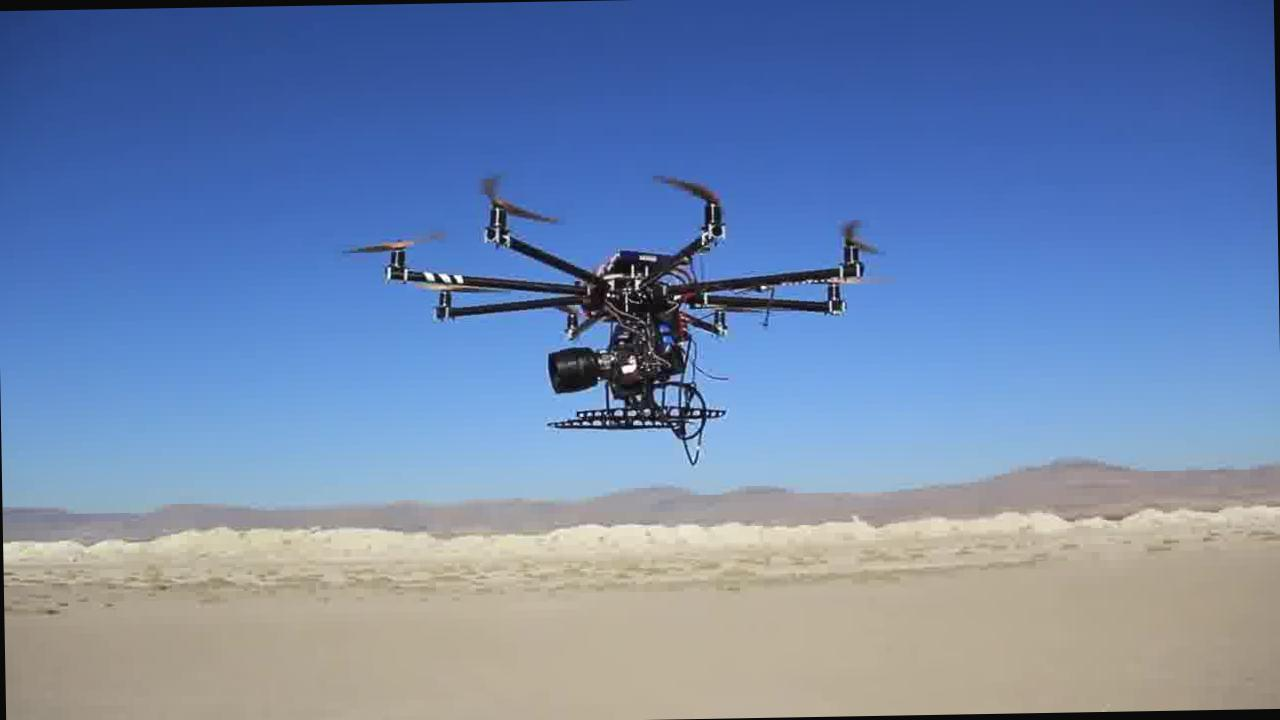drone: (346, 171, 893, 430)
